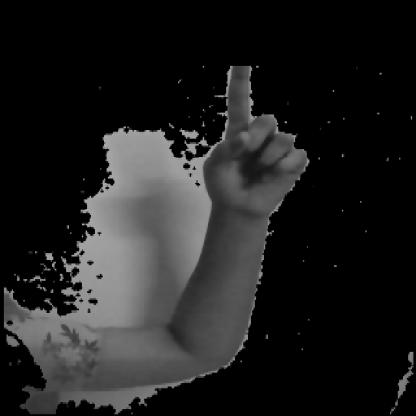one: (156, 55, 313, 378)
